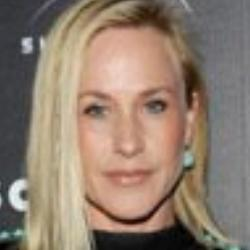face: (16, 1, 234, 249)
